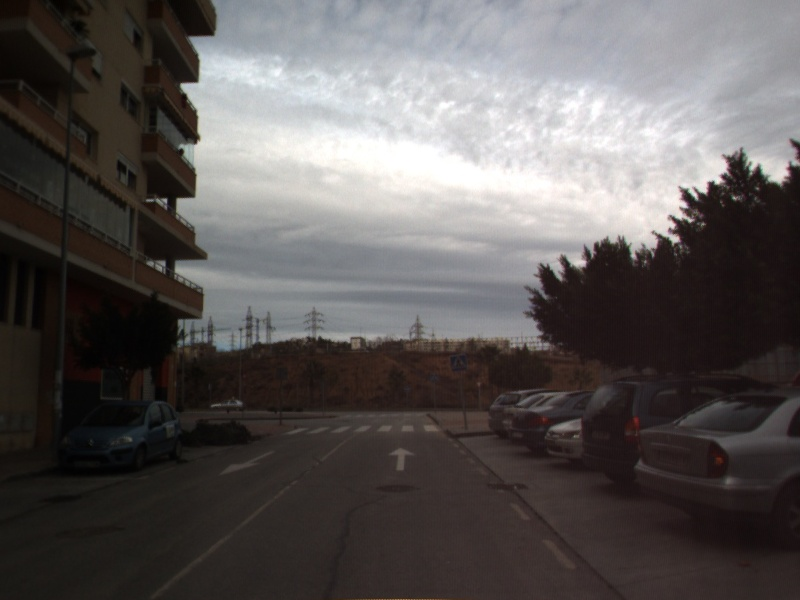STRAIGHT: (386, 445, 418, 472)
